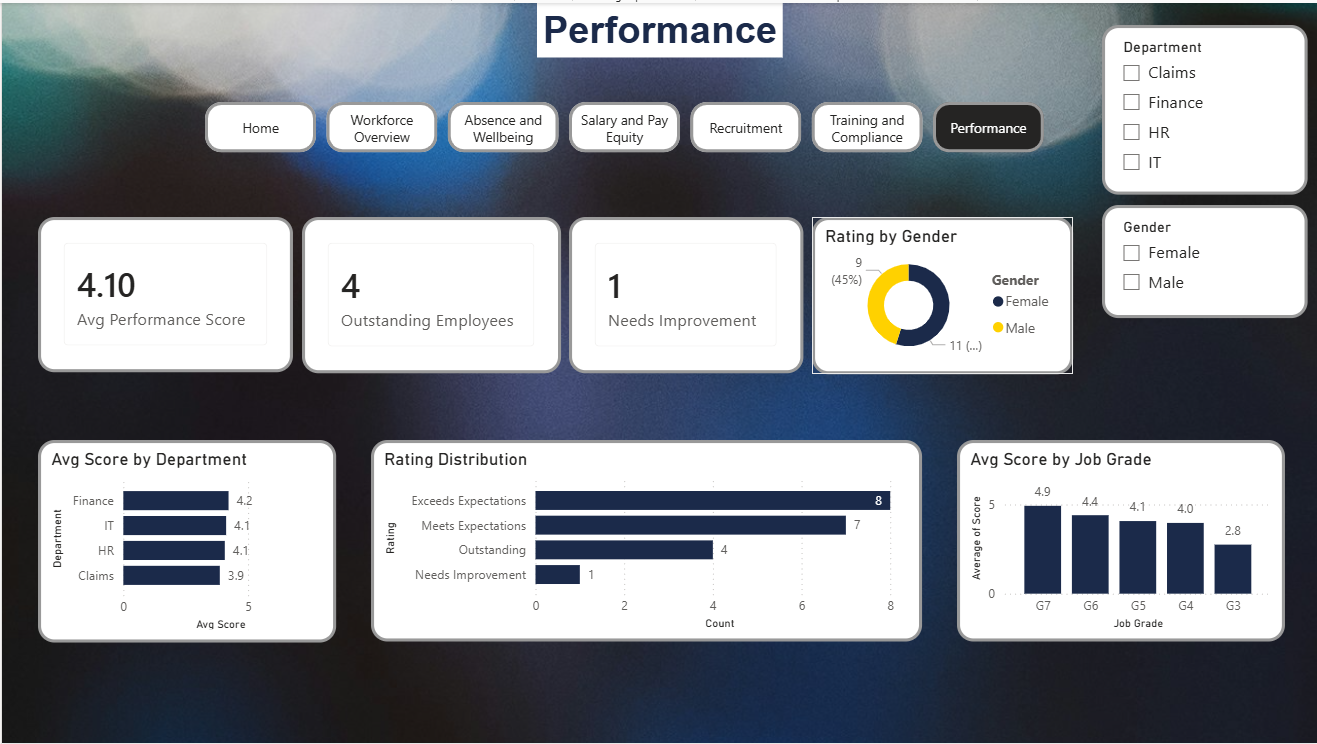

What the dashboard file says about the page in this screenshot:
{"tool":"powerbi","page":{"name":"Performance","canvas":[1280,720],"ordinal":6},"visuals":[{"type":"textbox","box":[520.4,0,239.3,52.5],"z":0},{"type":"pageNavigator","box":[260.7,96.3,758.7,49.6],"z":1000},{"type":"cardVisual","fields":{"Data":["Avg(vw_PerformanceInsights.Score)"]},"box":[35,208.1,248,150.8],"z":2000},{"type":"cardVisual","fields":{"Data":["CountNonNull(vw_PerformanceInsights.Rating)"]},"box":[291.5,208.1,251.9,151.7],"z":3000},{"type":"cardVisual","fields":{"Data":["CountNonNull(vw_PerformanceInsights.Rating)"]},"box":[551.8,208.1,227.6,151.7],"z":4000},{"type":"clusteredBarChart","fields":{"Y":["Avg(vw_PerformanceInsights.Score)"],"Category":["vw_PerformanceInsights.Department"]},"box":[35,425,289.8,197.4],"z":5000},{"type":"clusteredBarChart","title":"Rating Distribution","fields":{"Category":["vw_PerformanceInsights.Rating"],"Y":["CountNonNull(vw_PerformanceInsights.EmployeeID)"]},"box":[358.9,425,535.9,196.5],"z":6000},{"type":"clusteredBarChart","fields":{"Y":["Avg(vw_PerformanceInsights.Score)"],"Category":["vw_PerformanceInsights.JobGrade"]},"box":[928.9,425,282.1,196.5],"z":7000},{"type":"donutChart","fields":{"Category":["vw_PerformanceInsights.Gender"],"Y":["CountNonNull(vw_PerformanceInsights.Rating)"]},"box":[787.8,208.1,253.9,152.7],"z":8000},{"type":"slicer","fields":{"Values":["vw_PerformanceInsights.Department"]},"box":[1069.9,21.4,200.4,165.3],"z":9000},{"type":"slicer","fields":{"Values":["vw_PerformanceInsights.Gender"]},"box":[1069.9,196.5,200.4,109.9],"z":10000}]}

Visuals, with their boxes in screenshot pixels (x1, y1, x2, y2), scaled from the page's 1280x720 canvas onto the 1317x744 screenshot:
textbox: (535,0,782,54)
pageNavigator: (268,100,1049,151)
cardVisual - Avg(vw_PerformanceInsights.Score): (36,215,291,371)
cardVisual - CountNonNull(vw_PerformanceInsights.Rating): (300,215,559,372)
cardVisual - CountNonNull(vw_PerformanceInsights.Rating): (568,215,802,372)
clusteredBarChart - Avg(vw_PerformanceInsights.Score) x vw_PerformanceInsights.Department: (36,439,334,643)
"Rating Distribution" clusteredBarChart: (369,439,921,642)
clusteredBarChart - Avg(vw_PerformanceInsights.Score) x vw_PerformanceInsights.JobGrade: (956,439,1246,642)
donutChart - vw_PerformanceInsights.Gender x CountNonNull(vw_PerformanceInsights.Rating): (811,215,1072,373)
slicer - vw_PerformanceInsights.Department: (1101,22,1307,193)
slicer - vw_PerformanceInsights.Gender: (1101,203,1307,317)
